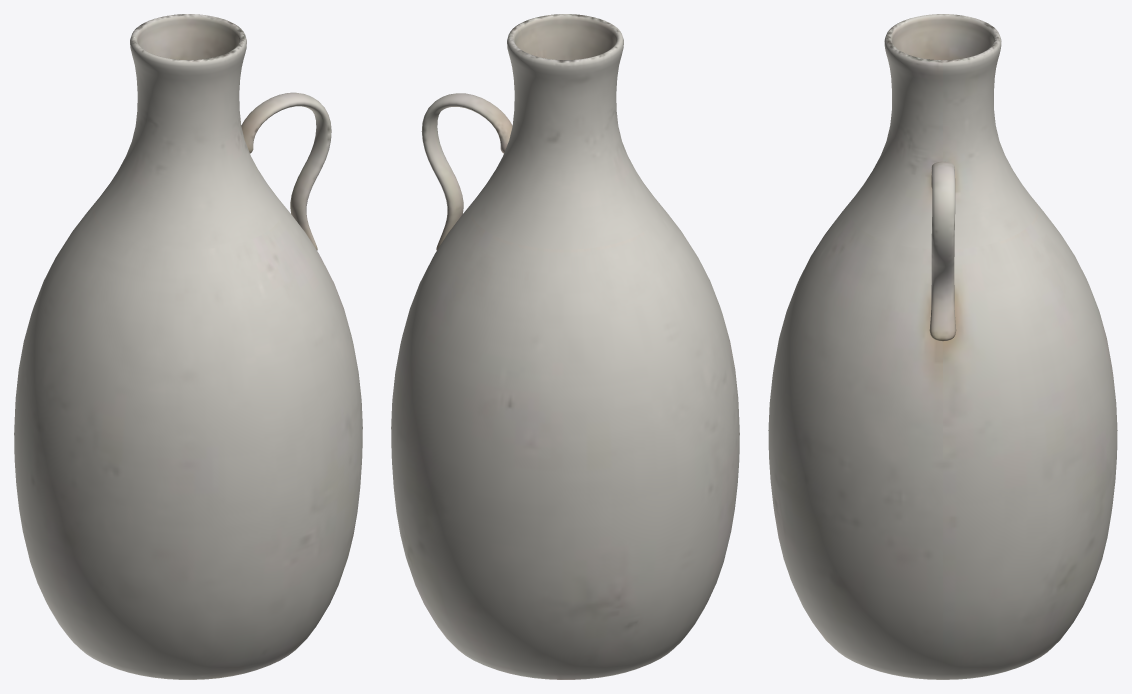
The model's file is ceramic_vase_04.glb.
3 views of the same model, side by side, from view 1: azimuth 30°, elevation 25°; view 2: azimuth 150°, elevation 25°; view 3: azimuth 270°, elevation 25° (orthographic).
Parts seen in each view (by area): view 1: ceramic_vase_04; view 2: ceramic_vase_04; view 3: ceramic_vase_04.
Boxes of the visible parts, x1,y1,x2,y2 form: ceramic_vase_04: [14, 14, 362, 679]; ceramic_vase_04: [391, 14, 739, 679]; ceramic_vase_04: [768, 14, 1117, 679].
Size of the model in its own units: 0.1811 by 0.3419 by 0.1811.
1 material, 1 textured.
